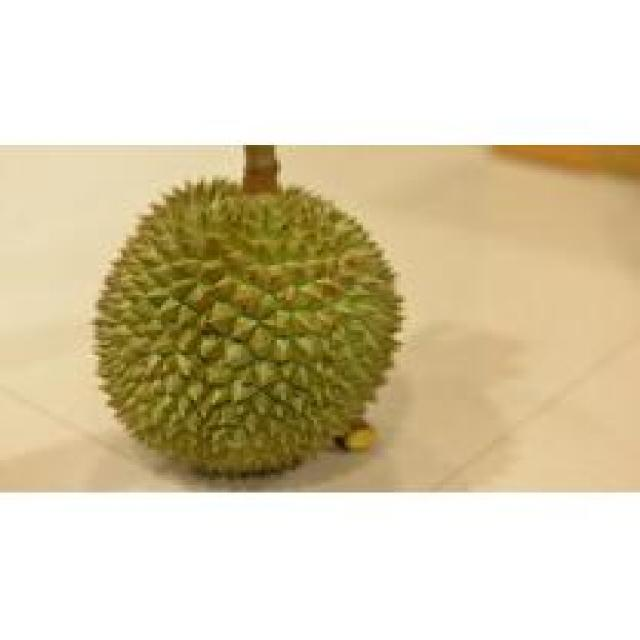fruit: (71, 162, 418, 492)
